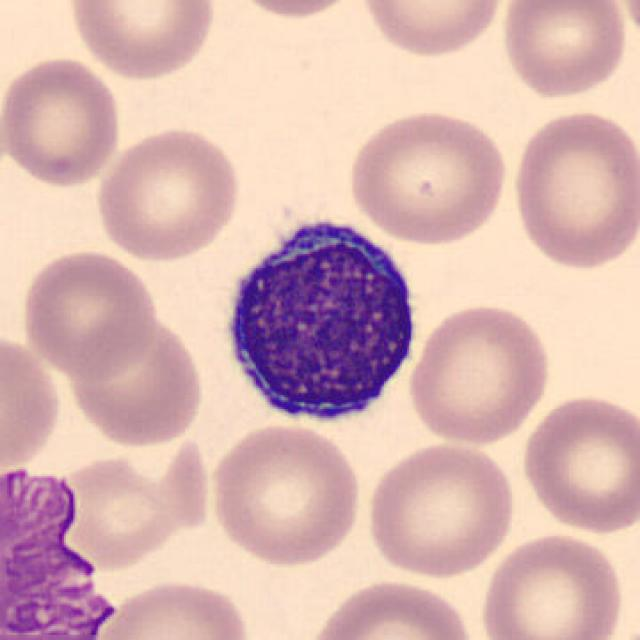Lymphocyte: (210, 203, 426, 432)
RBC: (35, 434, 214, 573), (343, 104, 512, 247), (204, 420, 364, 568), (361, 439, 519, 580), (405, 300, 555, 448), (507, 106, 638, 273), (92, 121, 245, 262), (66, 312, 210, 448), (18, 245, 160, 379), (518, 390, 638, 536), (0, 52, 124, 190), (474, 529, 628, 640), (496, 0, 631, 100), (62, 0, 220, 83), (302, 576, 478, 640), (87, 575, 256, 640), (0, 328, 64, 478), (358, 0, 510, 60), (220, 0, 368, 21), (615, 0, 640, 56)
